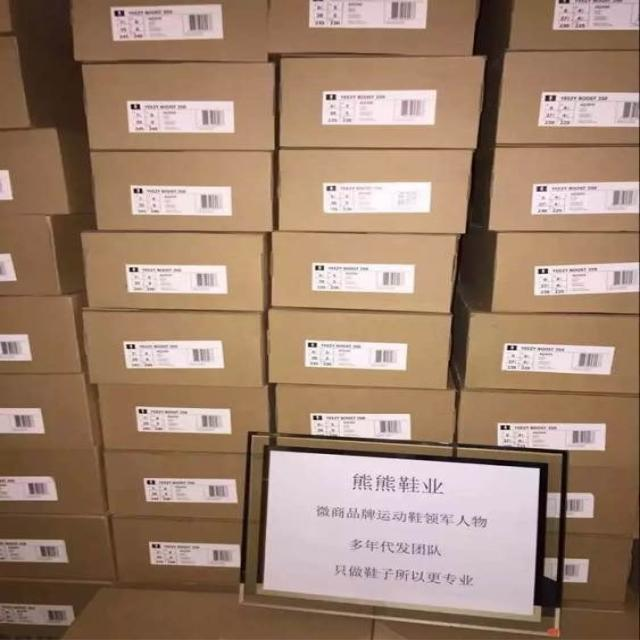box: (280, 57, 482, 149), (80, 61, 276, 151), (58, 586, 375, 640), (279, 151, 473, 234), (271, 232, 459, 315), (90, 150, 273, 232), (466, 311, 640, 395), (266, 308, 451, 387), (82, 234, 267, 312), (83, 306, 265, 385), (454, 393, 640, 466), (494, 52, 640, 144), (488, 145, 640, 233), (491, 231, 640, 315), (70, 1, 269, 62), (95, 383, 269, 451), (269, 1, 477, 55), (276, 385, 455, 445), (105, 451, 247, 521), (111, 519, 241, 591), (0, 513, 115, 586), (0, 213, 98, 294), (0, 372, 99, 448), (0, 448, 106, 515), (0, 294, 88, 374), (508, 1, 640, 52), (0, 127, 73, 215), (0, 578, 106, 638), (560, 536, 635, 612), (565, 466, 640, 538), (374, 620, 560, 639), (0, 36, 31, 128), (560, 608, 640, 640)
